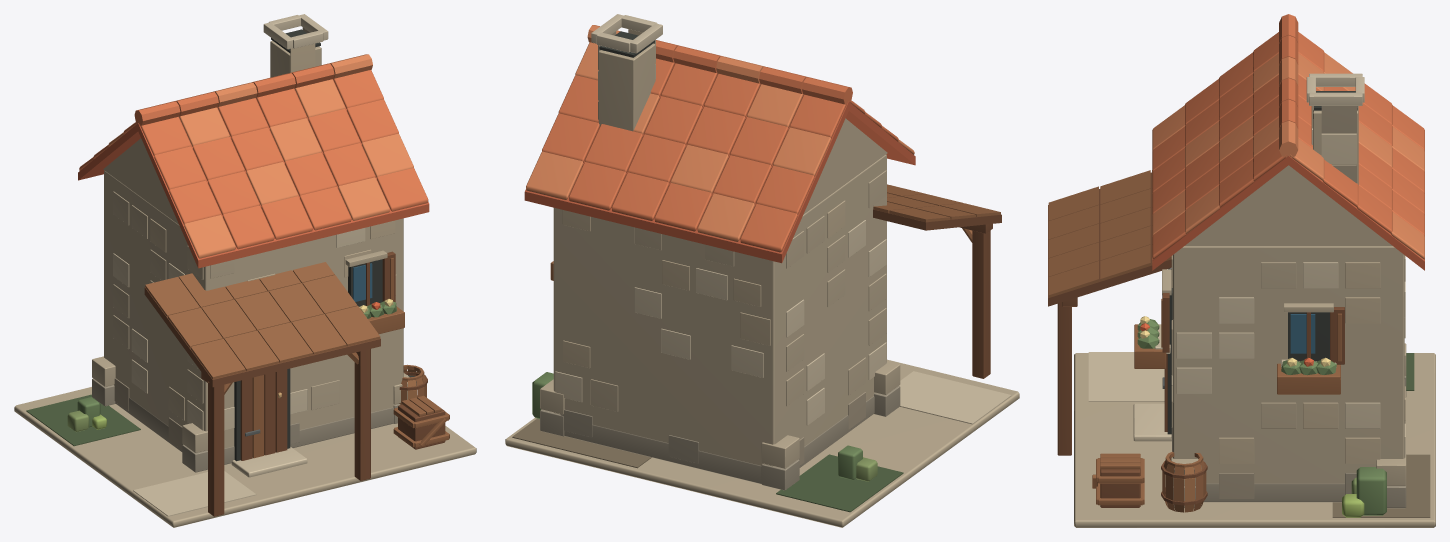
The model's file is house.glb.
3 views of the same model, side by side, from view 1: azimuth 30°, elevation 25°; view 2: azimuth 150°, elevation 25°; view 3: azimuth 270°, elevation 25° (orthographic). The views are drawn at different scales.
Parts seen in each view (by area): view 1: house; view 2: house; view 3: house.
Boxes of the visible parts, <box> form: house: <box>14,14,476,527</box>; house: <box>505,14,1019,527</box>; house: <box>1048,14,1435,527</box>.
Bounding box in the file's own units: 2.39 × 2.67 × 2.31.
